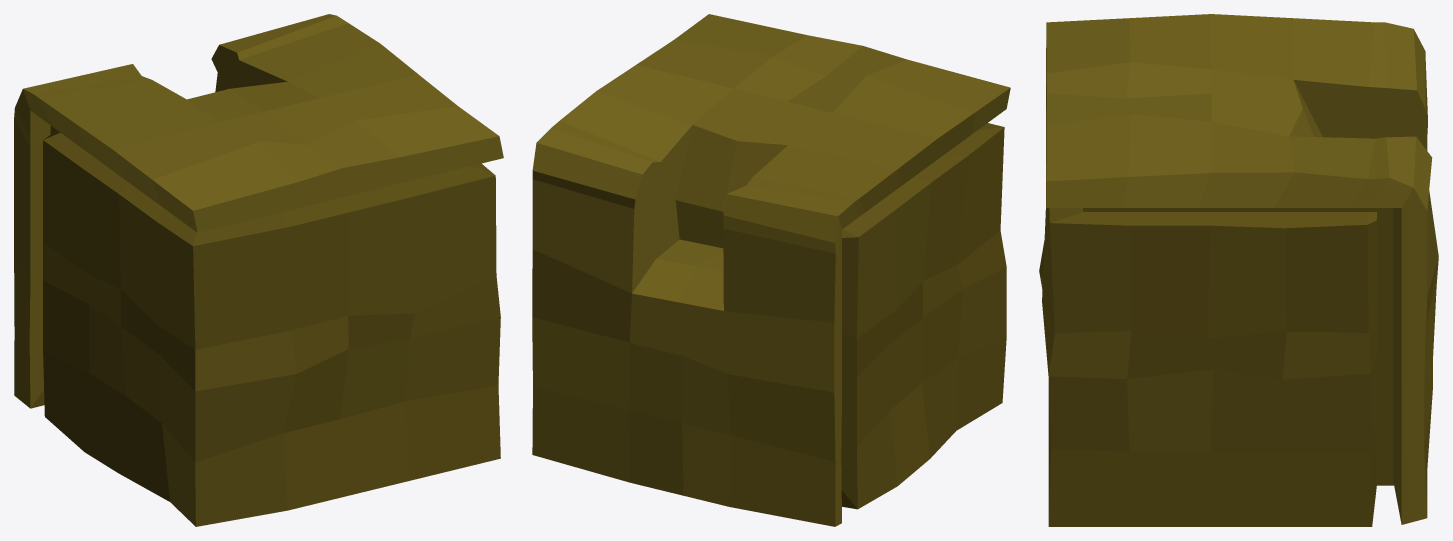
File: Dirt_Stairs_001.fbx
3 renders of one model, left to right at view 1: azimuth 30°, elevation 25°; view 2: azimuth 150°, elevation 25°; view 3: azimuth 270°, elevation 25°, orthographic. The views are drawn at different scales.
Visible parts, largest first — view 1: Dirt_Stairs_001.; view 2: Dirt_Stairs_001.; view 3: Dirt_Stairs_001..
Boxes of the visible parts, x1,y1,x2,y2 form: Dirt_Stairs_001.: [14, 14, 503, 526]; Dirt_Stairs_001.: [532, 14, 1010, 526]; Dirt_Stairs_001.: [1039, 14, 1438, 526].
Size of the model in its own units: 207 by 212 by 213.
Materials: 1 (1 with a texture image).
